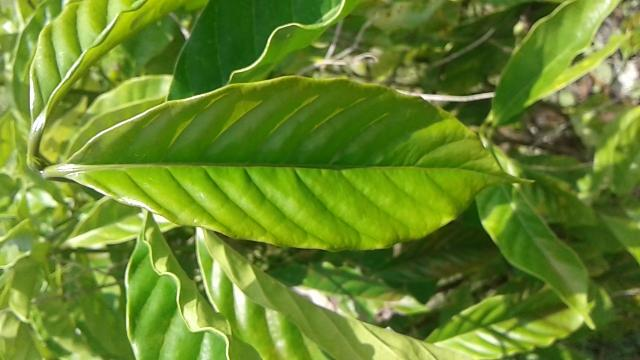healthy: (54, 70, 543, 254)
